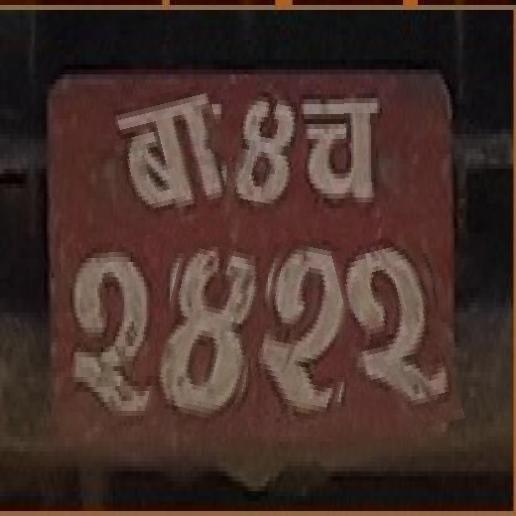2: (342, 234, 454, 436), (251, 235, 361, 435), (62, 238, 156, 432)
4: (153, 239, 263, 441), (225, 77, 308, 226)
ba: (110, 85, 231, 234)
cha: (300, 80, 389, 229)
